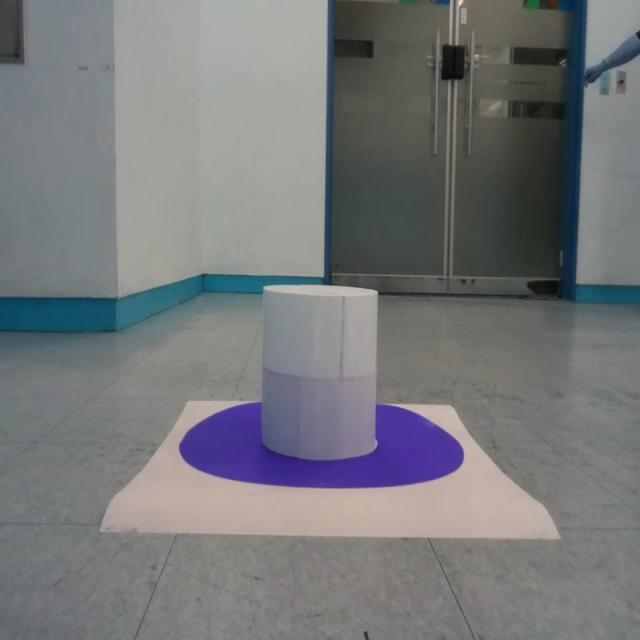cylinder: (260, 284, 379, 461)
